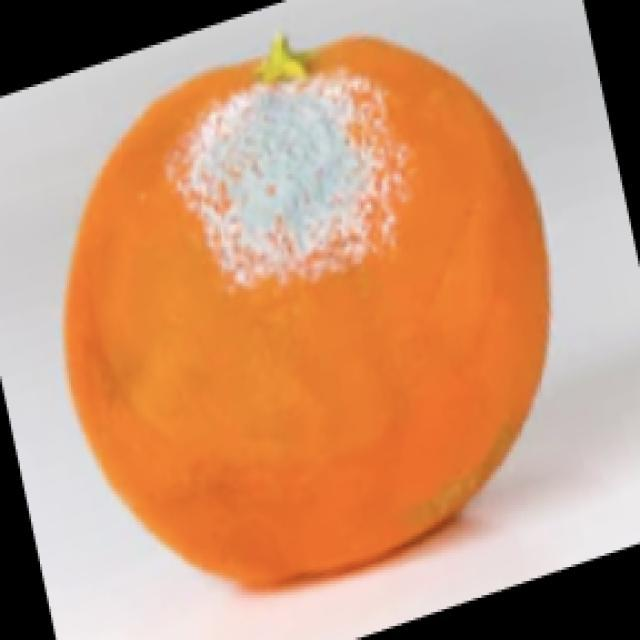sedikit-busuk: (64, 38, 547, 587), (169, 37, 404, 284)
